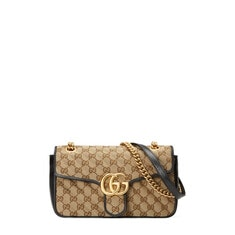Gucci: (50, 138, 180, 218), (96, 168, 138, 202), (78, 150, 126, 177), (80, 158, 90, 166)
